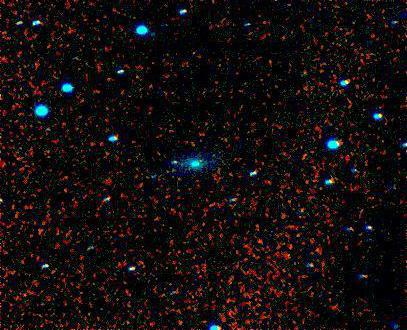star: (162, 144, 192, 174)
